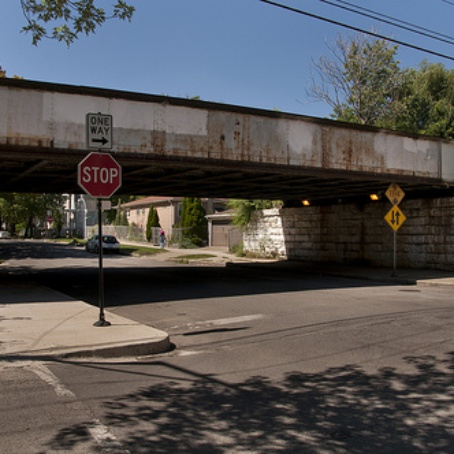bridge: (6, 75, 450, 292)
sign: (71, 151, 127, 204), (83, 109, 116, 151), (382, 205, 404, 232), (381, 184, 403, 211)
sky: (31, 1, 334, 110)
street: (24, 263, 454, 454)
tree: (318, 30, 408, 133), (395, 59, 454, 135)
